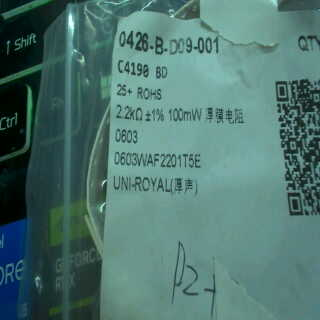2.2kR: (114, 101, 143, 126)
